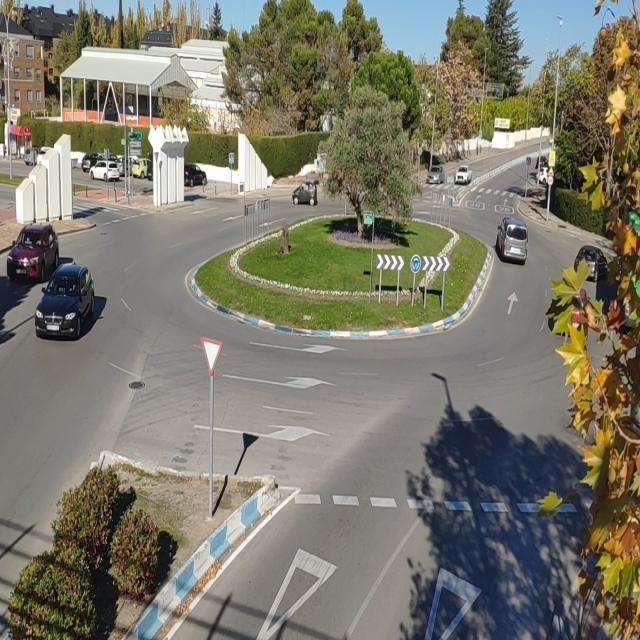Car: (34, 264, 94, 338), (7, 222, 60, 282), (574, 246, 608, 283), (89, 161, 122, 182), (293, 181, 319, 204), (184, 164, 208, 186), (131, 157, 151, 179), (426, 166, 445, 184), (454, 166, 472, 184)
Van: (495, 216, 529, 264)
